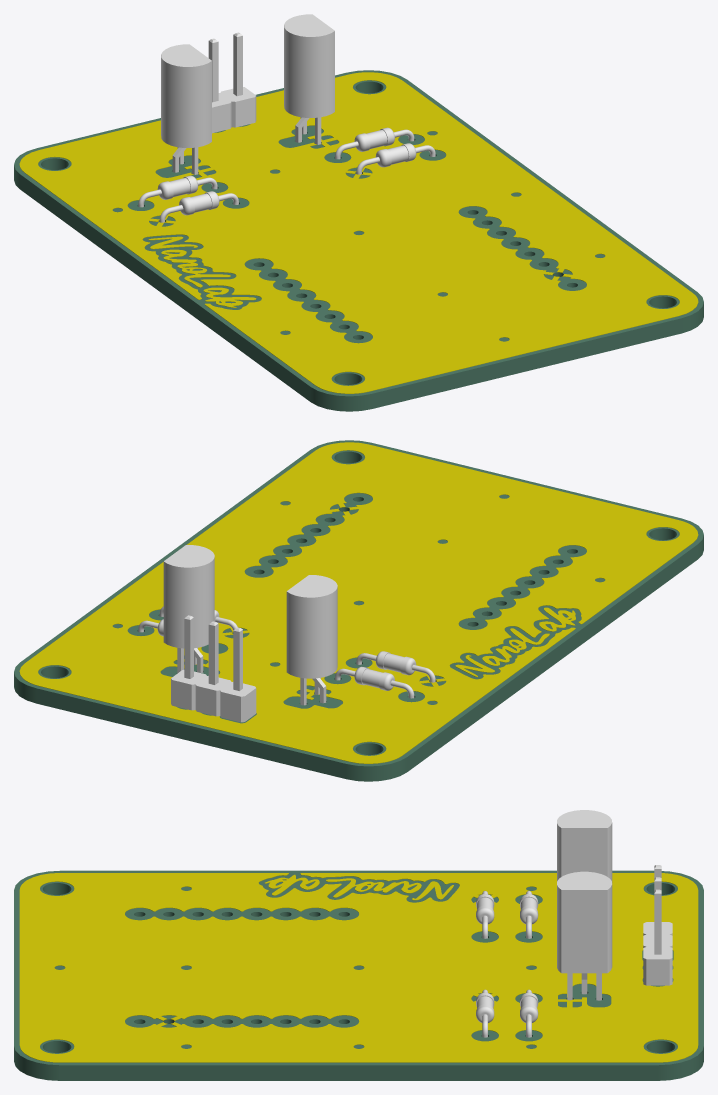
Rendered from clicker.glb.
3 renders of one model, top to bottom at view 1: azimuth 30°, elevation 25°; view 2: azimuth 150°, elevation 25°; view 3: azimuth 270°, elevation 25°, orthographic. The views are drawn at different scales.
Parts seen in each view (by area): view 1: =>[0:1:1:5], =>[0:1:1:7], Q101, Q102, J101, R101, R103, R104, R102; view 2: =>[0:1:1:5], =>[0:1:1:7], Q101, Q102, J101, R101, R102; view 3: =>[0:1:1:5], =>[0:1:1:7], Q102, Q101, J101, R102, R101, R104, R103.
Part boxes in pixels (x1=…): =>[0:1:1:5]: x1=19, y1=72, x2=698, y2=393; =>[0:1:1:7]: x1=14, y1=70, x2=703, y2=411; Q101: x1=161, y1=44, x2=211, y2=174; Q102: x1=284, y1=14, x2=334, y2=144; J101: x1=208, y1=32, x2=256, y2=133; R101: x1=138, y1=175, x2=217, y2=207; R103: x1=335, y1=127, x2=414, y2=159; R104: x1=356, y1=143, x2=435, y2=174; R102: x1=159, y1=191, x2=238, y2=222; =>[0:1:1:5]: x1=19, y1=442, x2=698, y2=763; =>[0:1:1:7]: x1=14, y1=440, x2=703, y2=781; Q101: x1=286, y1=575, x2=337, y2=705; Q102: x1=163, y1=545, x2=214, y2=673; J101: x1=171, y1=615, x2=256, y2=722; R101: x1=335, y1=666, x2=414, y2=698; R102: x1=356, y1=651, x2=435, y2=682; =>[0:1:1:5]: x1=19, y1=873, x2=698, y2=1062; =>[0:1:1:7]: x1=14, y1=870, x2=703, y2=1080; Q102: x1=557, y1=871, x2=612, y2=1000; Q101: x1=557, y1=810, x2=612, y2=883; J101: x1=643, y1=865, x2=672, y2=985; R102: x1=476, y1=891, x2=494, y2=938; R101: x1=520, y1=891, x2=538, y2=938; R104: x1=476, y1=989, x2=494, y2=1037; R103: x1=520, y1=989, x2=538, y2=1037.
Size of the model in its own units: 0.04 by 0.014 by 0.06.
